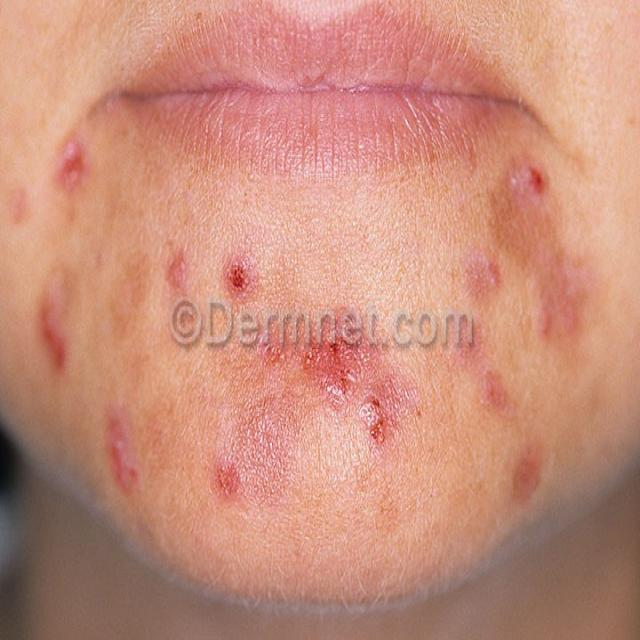Acne: (106, 408, 143, 498), (37, 294, 70, 375), (357, 388, 394, 448), (508, 451, 542, 507), (52, 138, 89, 188), (223, 250, 256, 302), (213, 454, 244, 504), (462, 256, 503, 292), (164, 244, 188, 296), (484, 365, 509, 414), (525, 159, 547, 200), (561, 298, 582, 336), (535, 304, 555, 341)
